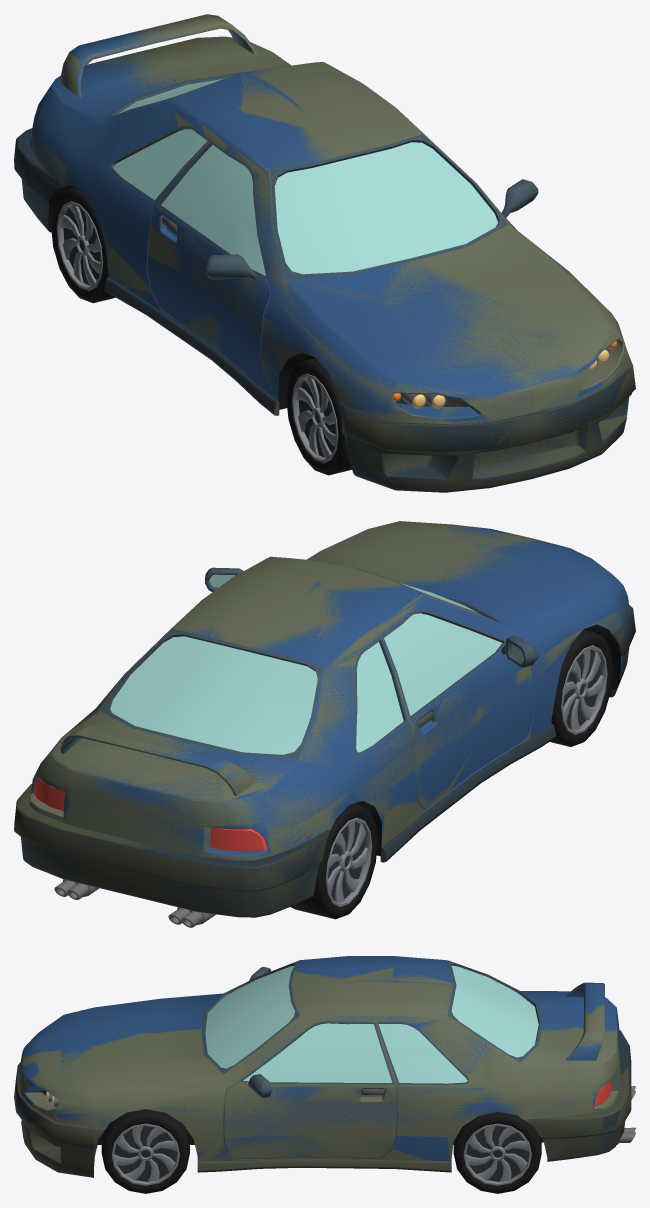
File: SM_Vehicles_10_V1.fbx
The picture shows the model from 3 angles, top to bottom: view 1: azimuth 30°, elevation 25°; view 2: azimuth 150°, elevation 25°; view 3: azimuth 270°, elevation 25°; orthographic projection. The views are drawn at different scales.
Visible parts, largest first — view 1: SM_Vehicles_10_V2, SM_Vehicles_10_V1, SM_Vehicles_10_FR, SM_Vehicles_10_RR; view 2: SM_Vehicles_10_V1, SM_Vehicles_10_V2, SM_Vehicles_10_RR, SM_Vehicles_10_FR; view 3: SM_Vehicles_10_V1, SM_Vehicles_10_V2, SM_Vehicles_10_FL, SM_Vehicles_10_RL.
Part boxes in pixels (left/top/right/bottom): SM_Vehicles_10_V2: left=14, top=27, right=633, bottom=492; SM_Vehicles_10_V1: left=14, top=14, right=635, bottom=492; SM_Vehicles_10_FR: left=286, top=358, right=351, bottom=475; SM_Vehicles_10_RR: left=51, top=187, right=115, bottom=303; SM_Vehicles_10_V1: left=14, top=521, right=635, bottom=927; SM_Vehicles_10_V2: left=14, top=525, right=635, bottom=927; SM_Vehicles_10_RR: left=290, top=803, right=377, bottom=919; SM_Vehicles_10_FR: left=550, top=629, right=613, bottom=746; SM_Vehicles_10_V1: left=14, top=962, right=635, bottom=1176; SM_Vehicles_10_V2: left=16, top=956, right=635, bottom=1177; SM_Vehicles_10_FL: left=101, top=1109, right=189, bottom=1193; SM_Vehicles_10_RL: left=453, top=1112, right=541, bottom=1193.
Size of the model in its own units: 1.85 by 1.18 by 4.02.
